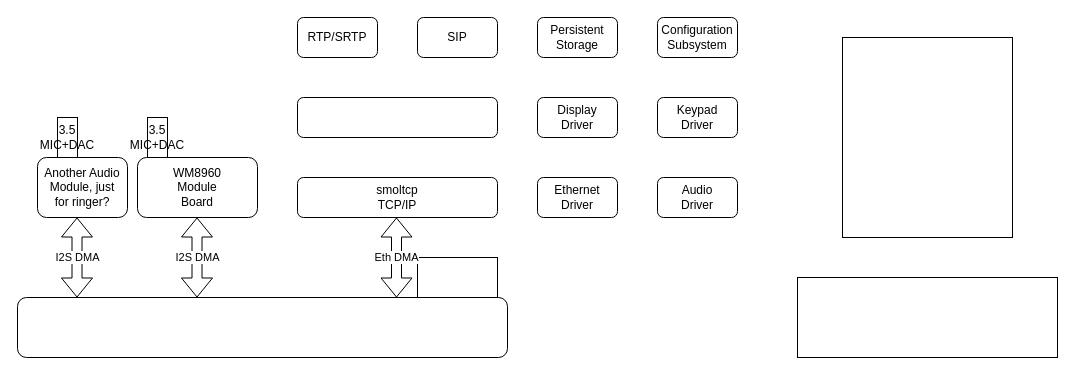
The diagram is 1075 pixels wide and 375 high, and some of its shapes have lost their labels. Here are the shapes that lost their labels. From the top down, the centre of each, then its label:
the point at 397,117: mbed TLS
the point at 927,137: 4x4 Keypad
the point at 457,277: On-Board Ethernet
the point at 262,327: STM32F4/7 - ARM CM4/7
the point at 927,317: LCD Display
